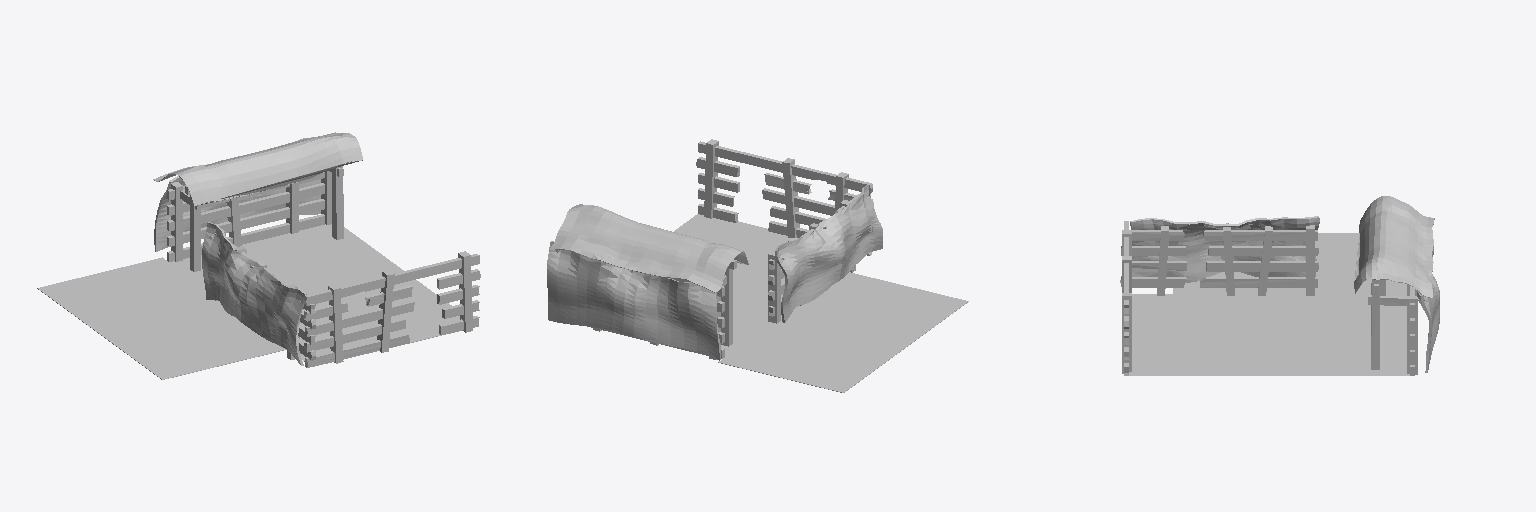
Rendered from Bazaar.obj.
The picture shows the model from 3 angles: view 1: azimuth 30°, elevation 25°; view 2: azimuth 150°, elevation 25°; view 3: azimuth 270°, elevation 25°; orthographic projection.
Size of the model in its own units: 59.55 by 20.67 by 56.11.